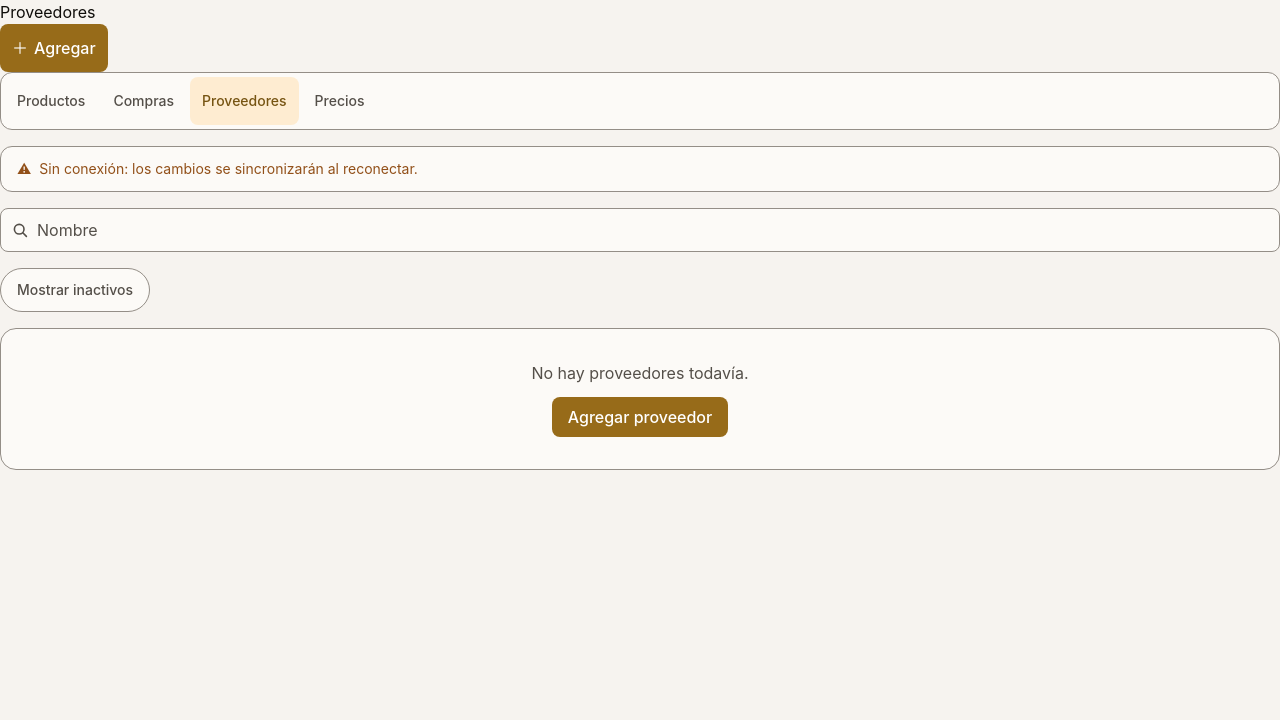
Test: Proveedores › alta › cancelar durante el guardado › sin conexión: tras cancelar, la sincronización que rechaza SIGUE avisando (el catch queda enganchado)
Click the button with aria-label "Agregar proveedor" at (54, 48), box top-left (0, 24), bottom-right (108, 72)
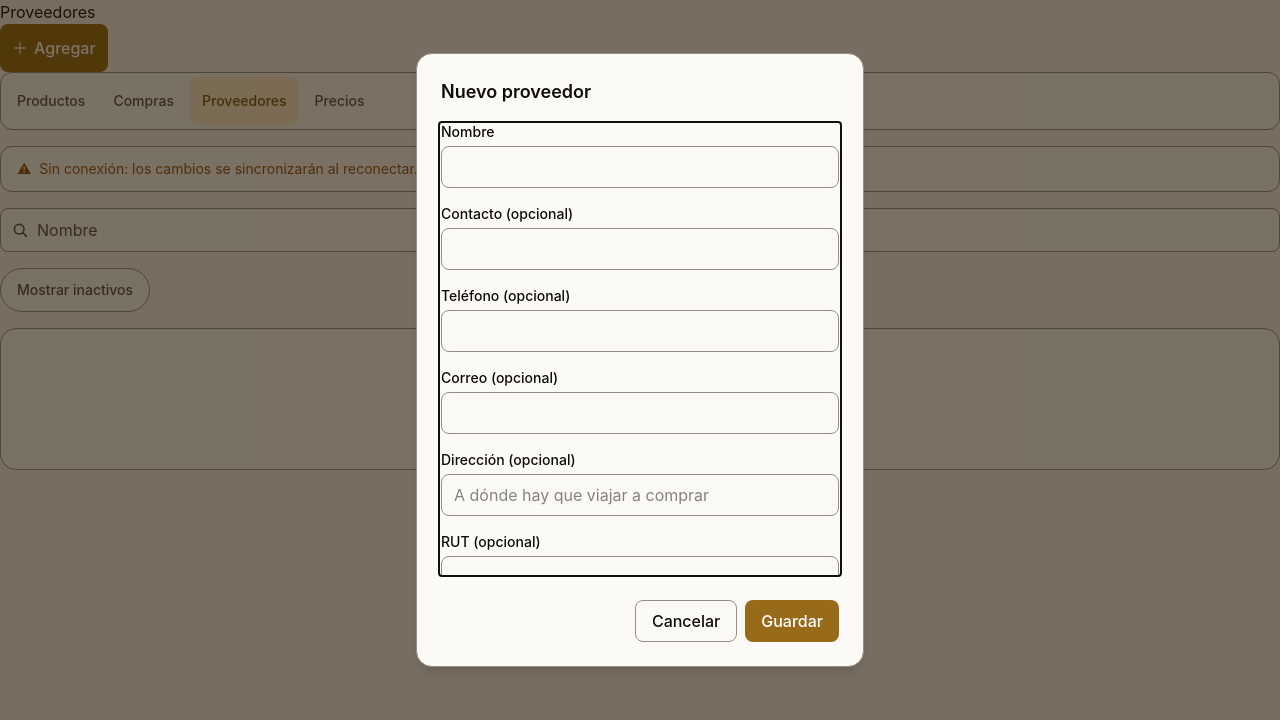
Type "Quesos del Norte" into the field labelled "Nombre" at (640, 167), box top-left (441, 146), bottom-right (839, 188)
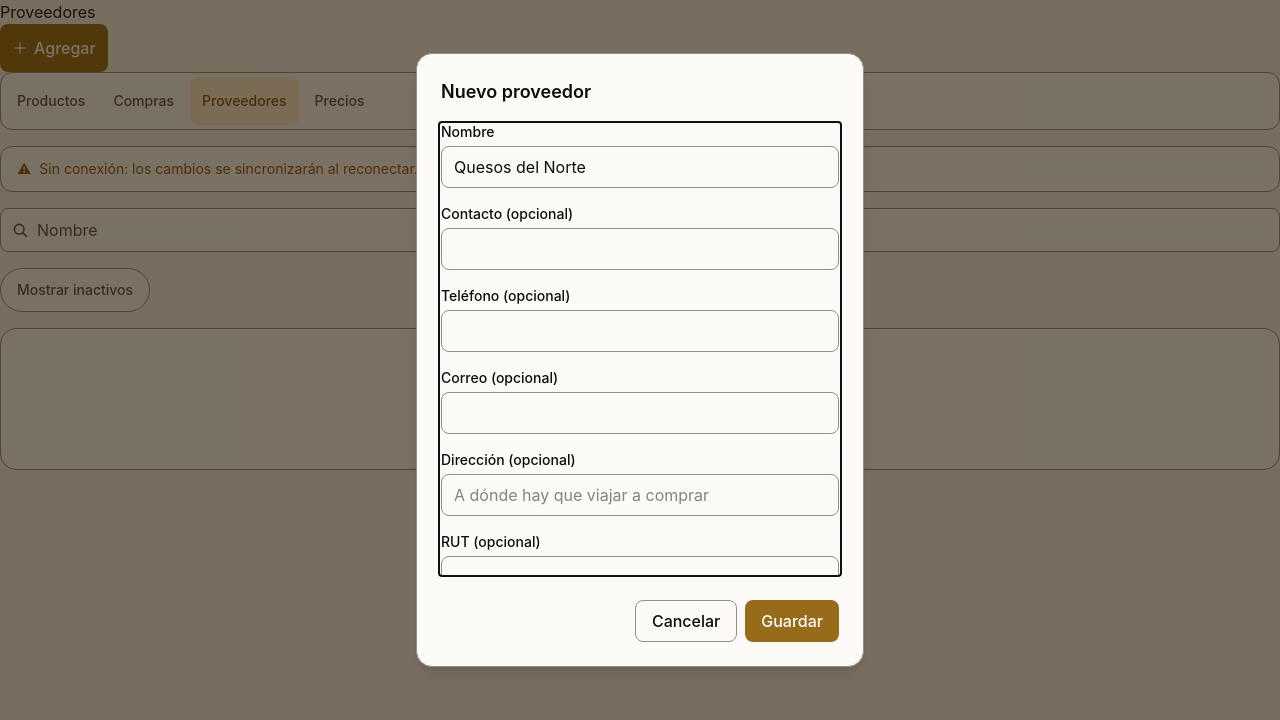
Click the button "Guardar" at (792, 621), box top-left (745, 600), bottom-right (839, 642)
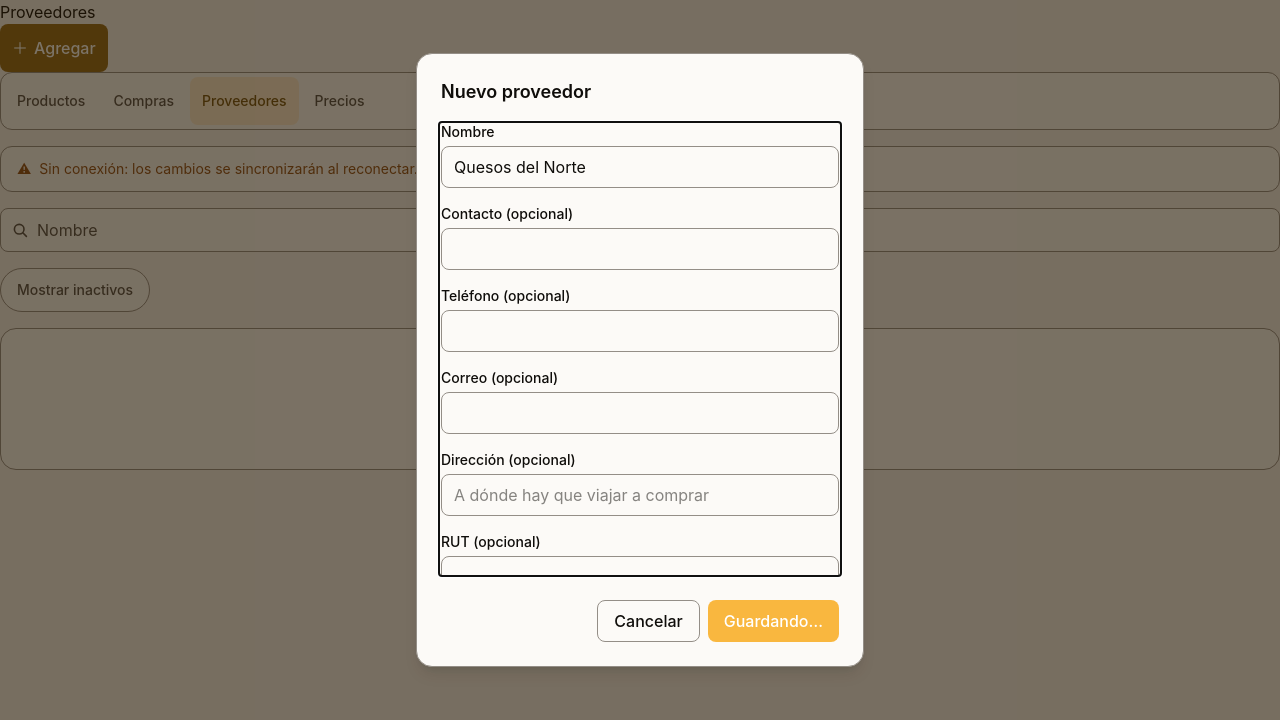
Click the button "Cancelar" at (648, 621), box top-left (597, 600), bottom-right (700, 642)
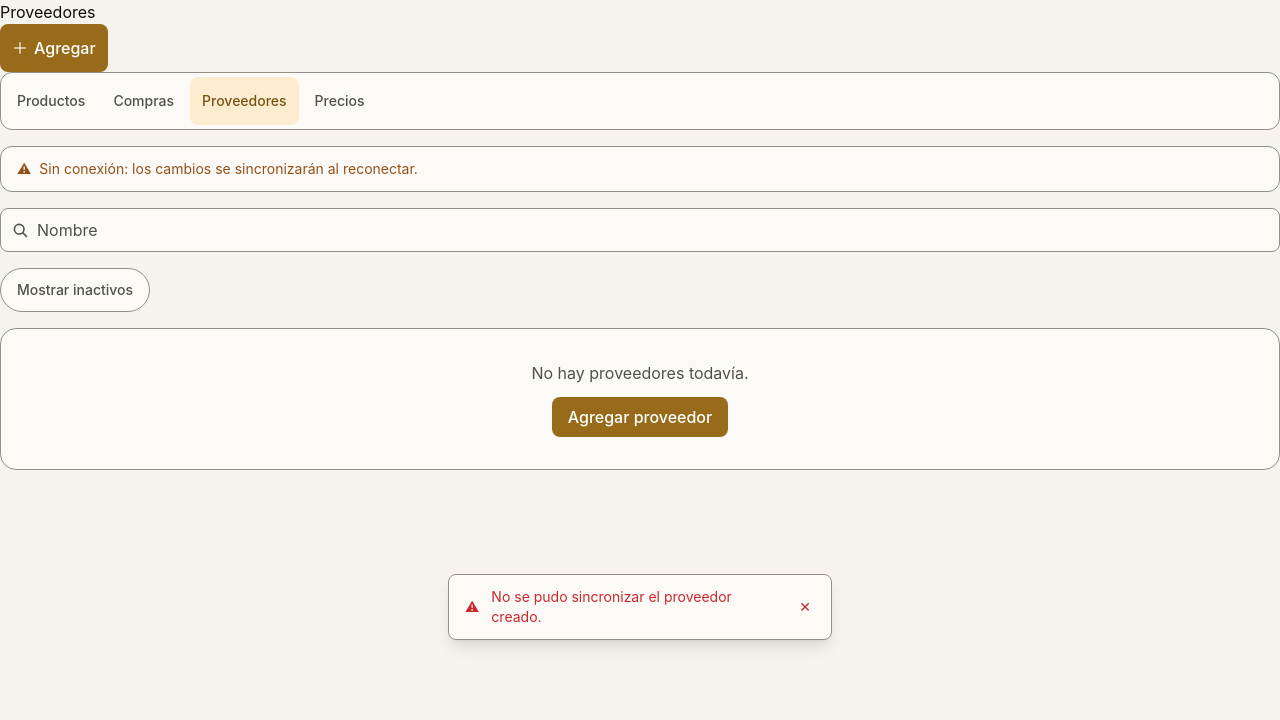
Check: the text "No se pudo sincronizar el proveedor creado." is shown, box top-left (491, 588), bottom-right (732, 625)
